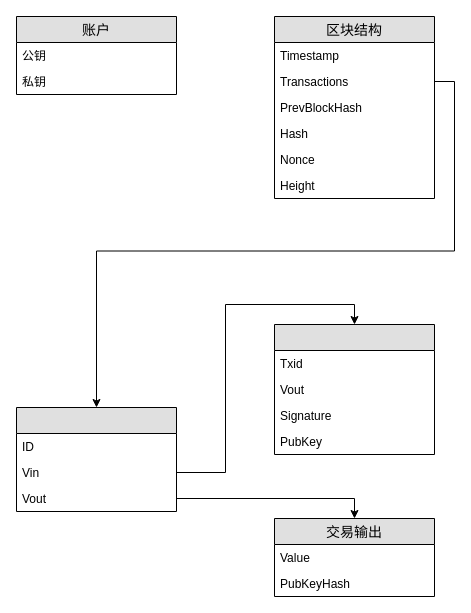
The diagram is 471 pixels wide and 613 high, and some of its shapes have lost their labels. The box of each missing label's shape, as (x1, y1, x2, y2) in pixels:
交易: (16, 406, 176, 512)
交易输入: (274, 324, 434, 454)
